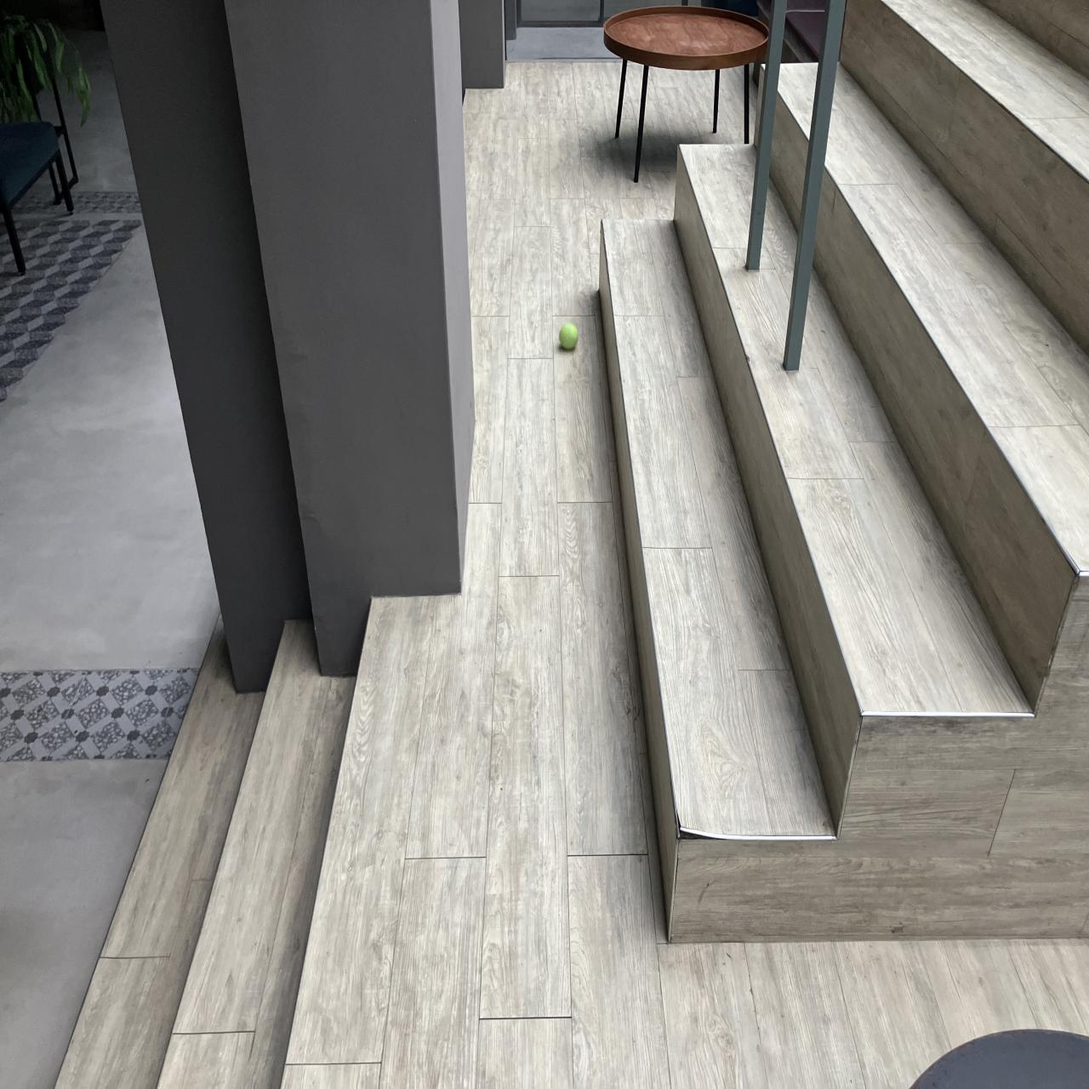tennisball: (559, 323, 579, 350)
